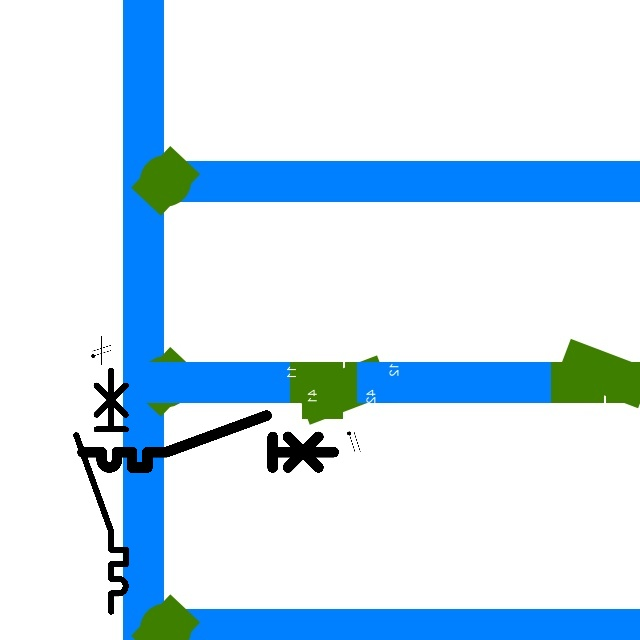interruptor_termomagnetico: (76, 409, 340, 474), (70, 364, 132, 617)
